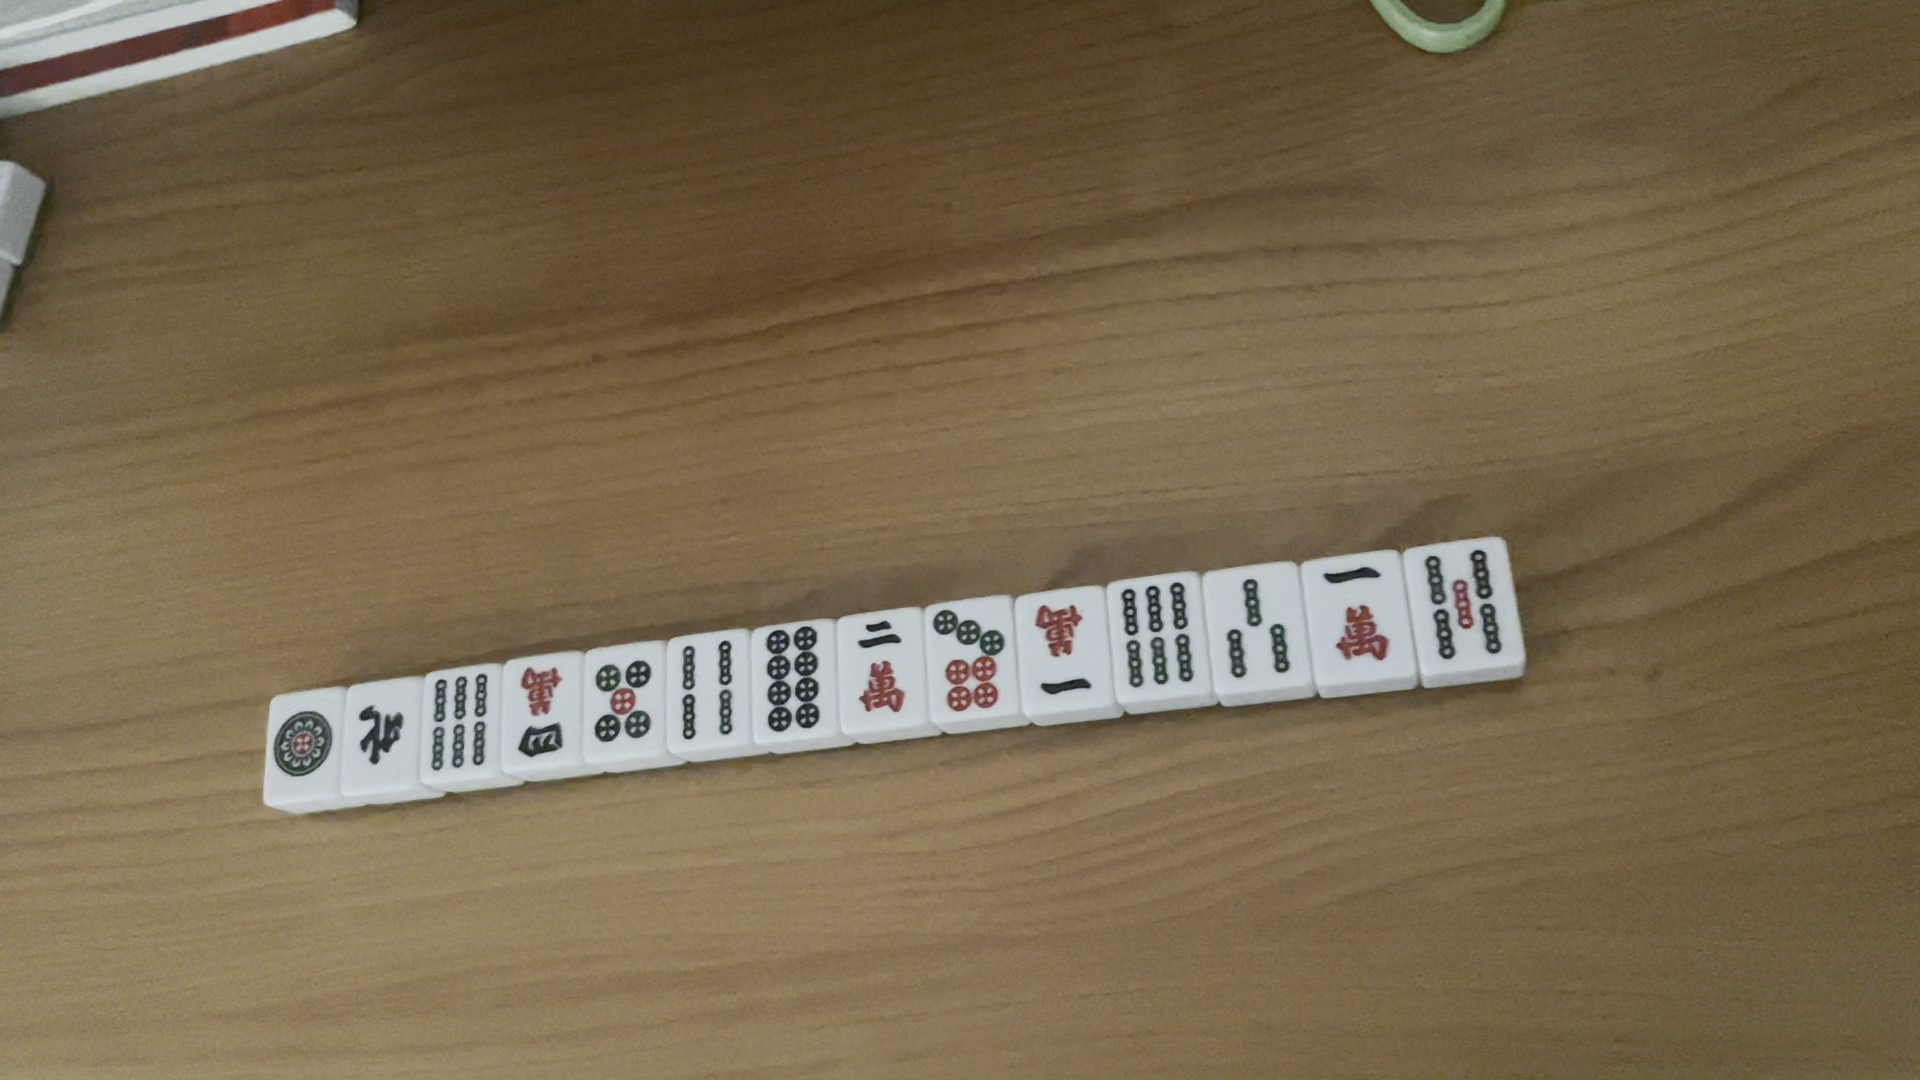b-1: (1313, 556, 1402, 676)
b-3: (1222, 572, 1291, 682)
b-4: (665, 640, 742, 738)
b-6: (1116, 575, 1197, 694), (425, 673, 487, 771)
c-1: (1025, 597, 1102, 712)
c-2: (848, 612, 913, 724)
c-4: (520, 667, 564, 757)
c-5: (1416, 541, 1526, 680)
d-1: (276, 702, 332, 775)
d-5: (591, 657, 647, 748)
d-7: (934, 604, 1006, 711)
d-8: (762, 624, 833, 735)
honors-north: (348, 705, 407, 769)
